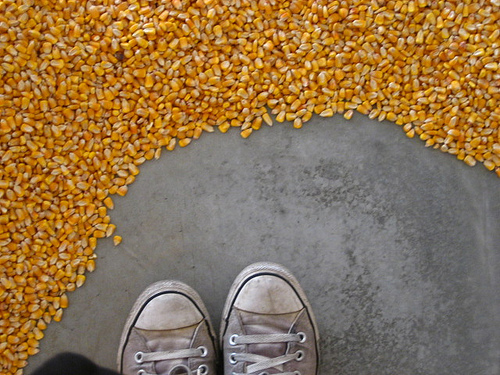corn: (0, 0, 498, 373)
